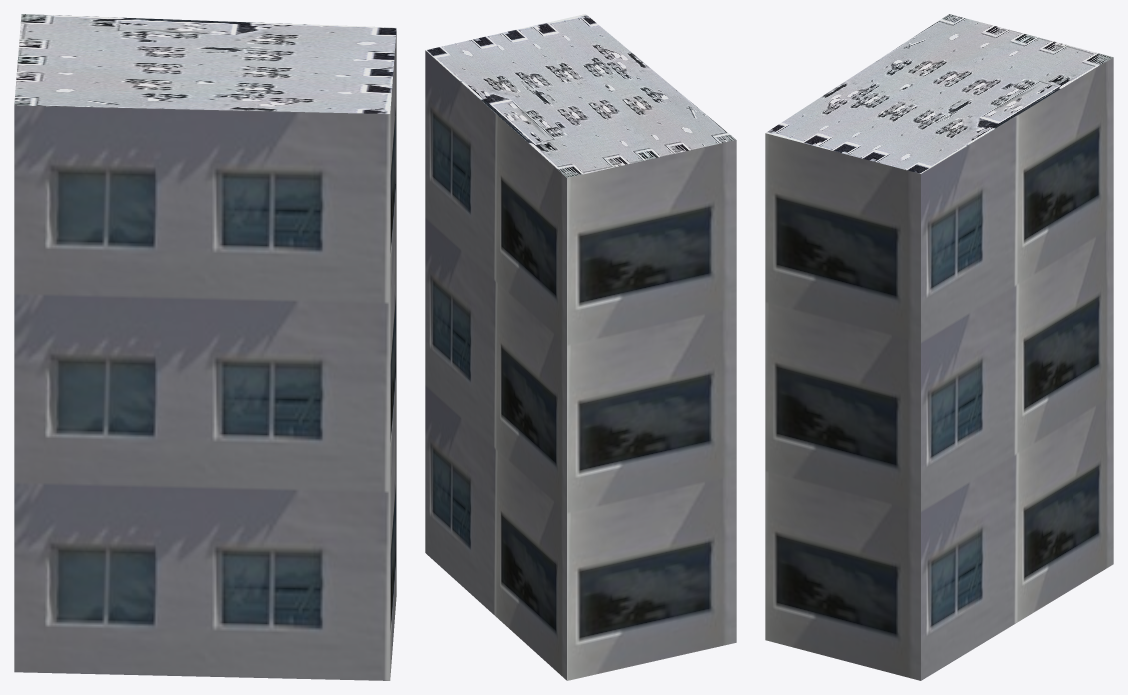
The model's file is ResTex__3105.fbx.
The picture shows the model from 3 angles, left to right: view 1: azimuth 30°, elevation 25°; view 2: azimuth 150°, elevation 25°; view 3: azimuth 270°, elevation 25°; orthographic projection. The views are drawn at different scales.
Visible parts, largest first — view 1: CityEngineMaterial_10_m, CityEngineMaterial_4_m; view 2: CityEngineMaterial_10_m, CityEngineMaterial_4_m; view 3: CityEngineMaterial_10_m, CityEngineMaterial_4_m.
Boxes of the visible parts, x1,y1,x2,y2 form: CityEngineMaterial_10_m: (14, 30, 396, 680); CityEngineMaterial_4_m: (14, 14, 396, 113); CityEngineMaterial_10_m: (425, 50, 736, 680); CityEngineMaterial_4_m: (426, 14, 735, 177); CityEngineMaterial_10_m: (765, 57, 1113, 680); CityEngineMaterial_4_m: (765, 14, 1113, 173).
Bounding box in the file's own units: 6.09 × 9 × 5.61.
Materials: 2 (2 with a texture image).
